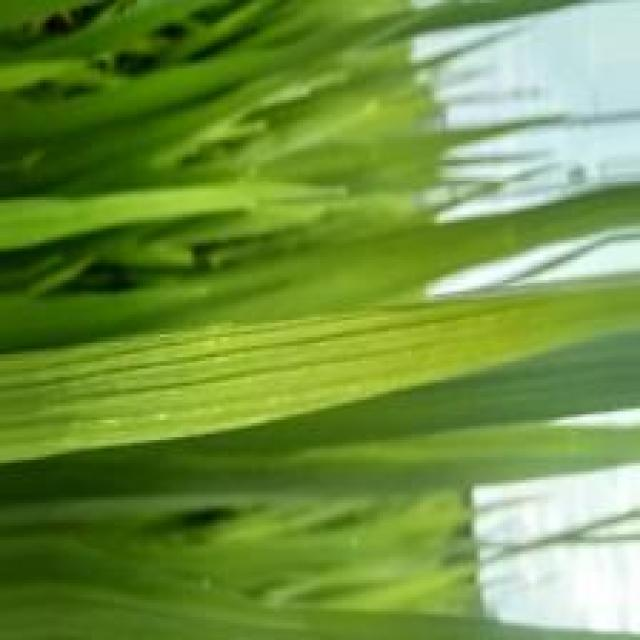HealthyLeaf: (2, 315, 370, 459)
